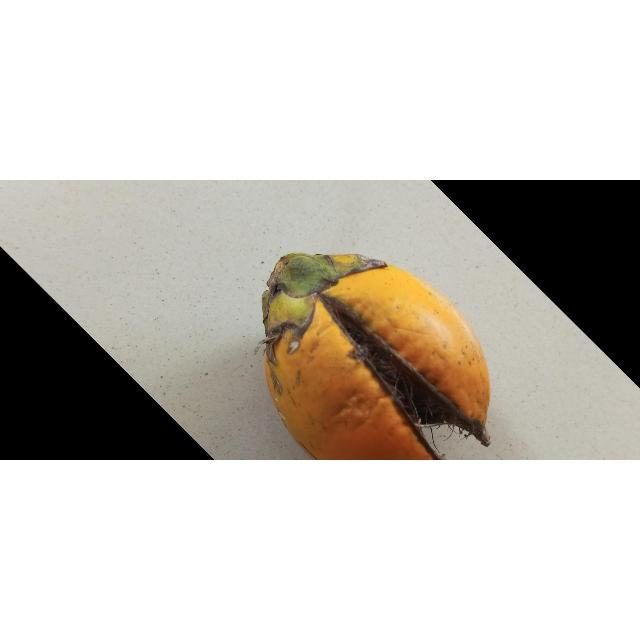damaged: (264, 254, 492, 461)
